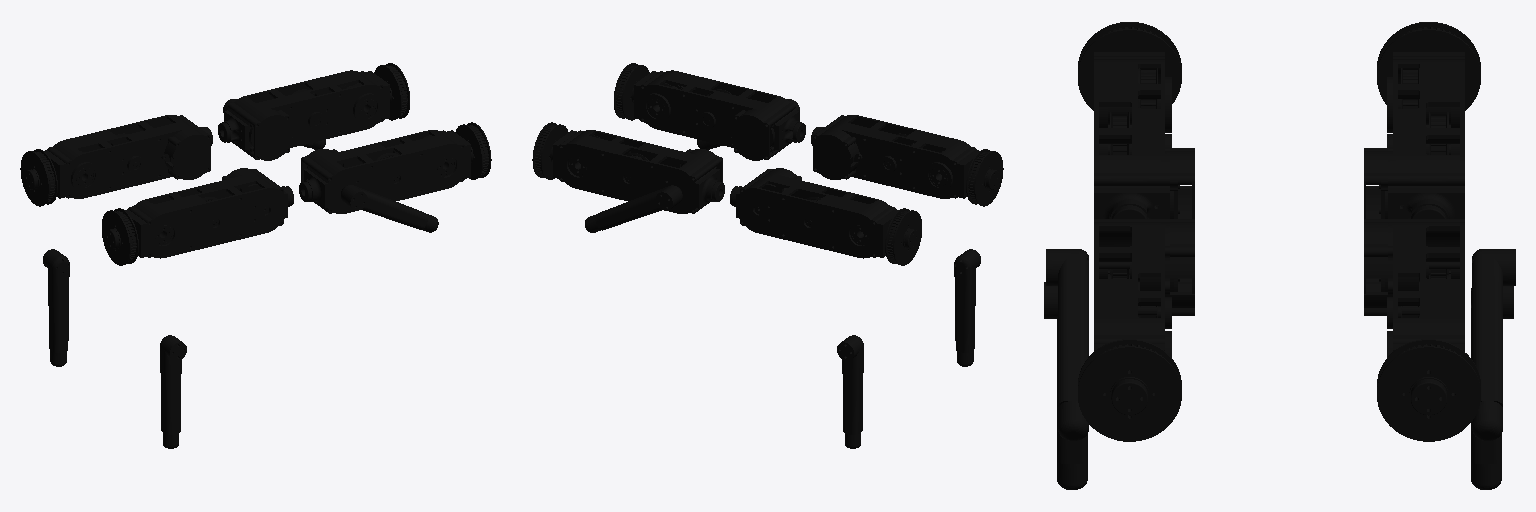
robot.urdf — mistletoe:
<?xml version="1.0" ?>
<!-- =================================================================================== -->
<!-- |    This document was autogenerated by xacro from mistletoe.xacro                | -->
<!-- |    EDITING THIS FILE BY HAND IS NOT RECOMMENDED                                 | -->
<!-- =================================================================================== -->
<robot name="mistletoe">
  <material name="silver_default">
    <color rgba="0.700 0.700 0.700 1.000"/>
  </material>
  <material name="plastic_glossy_black">
    <color rgba="0.09803921568627451 0.09803921568627451 0.09803921568627451 1.0"/>
  </material>
  <transmission name="KFE3_tran">
    <type>transmission_interface/SimpleTransmission</type>
    <joint name="KFE3">
      <hardwareInterface>hardware_interface/EffortJointInterface</hardwareInterface>
    </joint>
    <actuator name="KFE3_actr">
      <hardwareInterface>hardware_interface/EffortJointInterface</hardwareInterface>
      <mechanicalReduction>1</mechanicalReduction>
    </actuator>
  </transmission>
  <transmission name="HFE3_tran">
    <type>transmission_interface/SimpleTransmission</type>
    <joint name="HFE3">
      <hardwareInterface>hardware_interface/EffortJointInterface</hardwareInterface>
    </joint>
    <actuator name="HFE3_actr">
      <hardwareInterface>hardware_interface/EffortJointInterface</hardwareInterface>
      <mechanicalReduction>1</mechanicalReduction>
    </actuator>
  </transmission>
  <transmission name="HAA3_tran">
    <type>transmission_interface/SimpleTransmission</type>
    <joint name="HAA3">
      <hardwareInterface>hardware_interface/EffortJointInterface</hardwareInterface>
    </joint>
    <actuator name="HAA3_actr">
      <hardwareInterface>hardware_interface/EffortJointInterface</hardwareInterface>
      <mechanicalReduction>1</mechanicalReduction>
    </actuator>
  </transmission>
  <transmission name="HAA4_tran">
    <type>transmission_interface/SimpleTransmission</type>
    <joint name="HAA4">
      <hardwareInterface>hardware_interface/EffortJointInterface</hardwareInterface>
    </joint>
    <actuator name="HAA4_actr">
      <hardwareInterface>hardware_interface/EffortJointInterface</hardwareInterface>
      <mechanicalReduction>1</mechanicalReduction>
    </actuator>
  </transmission>
  <transmission name="HFE4_tran">
    <type>transmission_interface/SimpleTransmission</type>
    <joint name="HFE4">
      <hardwareInterface>hardware_interface/EffortJointInterface</hardwareInterface>
    </joint>
    <actuator name="HFE4_actr">
      <hardwareInterface>hardware_interface/EffortJointInterface</hardwareInterface>
      <mechanicalReduction>1</mechanicalReduction>
    </actuator>
  </transmission>
  <transmission name="KFE4_tran">
    <type>transmission_interface/SimpleTransmission</type>
    <joint name="KFE4">
      <hardwareInterface>hardware_interface/EffortJointInterface</hardwareInterface>
    </joint>
    <actuator name="KFE4_actr">
      <hardwareInterface>hardware_interface/EffortJointInterface</hardwareInterface>
      <mechanicalReduction>1</mechanicalReduction>
    </actuator>
  </transmission>
  <transmission name="HAA1_tran">
    <type>transmission_interface/SimpleTransmission</type>
    <joint name="HAA1">
      <hardwareInterface>hardware_interface/EffortJointInterface</hardwareInterface>
    </joint>
    <actuator name="HAA1_actr">
      <hardwareInterface>hardware_interface/EffortJointInterface</hardwareInterface>
      <mechanicalReduction>1</mechanicalReduction>
    </actuator>
  </transmission>
  <transmission name="HAA2_tran">
    <type>transmission_interface/SimpleTransmission</type>
    <joint name="HAA2">
      <hardwareInterface>hardware_interface/EffortJointInterface</hardwareInterface>
    </joint>
    <actuator name="HAA2_actr">
      <hardwareInterface>hardware_interface/EffortJointInterface</hardwareInterface>
      <mechanicalReduction>1</mechanicalReduction>
    </actuator>
  </transmission>
  <transmission name="HFE1_tran">
    <type>transmission_interface/SimpleTransmission</type>
    <joint name="HFE1">
      <hardwareInterface>hardware_interface/EffortJointInterface</hardwareInterface>
    </joint>
    <actuator name="HFE1_actr">
      <hardwareInterface>hardware_interface/EffortJointInterface</hardwareInterface>
      <mechanicalReduction>1</mechanicalReduction>
    </actuator>
  </transmission>
  <transmission name="HFE2_tran">
    <type>transmission_interface/SimpleTransmission</type>
    <joint name="HFE2">
      <hardwareInterface>hardware_interface/EffortJointInterface</hardwareInterface>
    </joint>
    <actuator name="HFE2_actr">
      <hardwareInterface>hardware_interface/EffortJointInterface</hardwareInterface>
      <mechanicalReduction>1</mechanicalReduction>
    </actuator>
  </transmission>
  <transmission name="Revolute 27_tran">
    <type>transmission_interface/SimpleTransmission</type>
    <joint name="Revolute 27">
      <hardwareInterface>hardware_interface/EffortJointInterface</hardwareInterface>
    </joint>
    <actuator name="Revolute 27_actr">
      <hardwareInterface>hardware_interface/EffortJointInterface</hardwareInterface>
      <mechanicalReduction>1</mechanicalReduction>
    </actuator>
  </transmission>
  <transmission name="Revolute 28_tran">
    <type>transmission_interface/SimpleTransmission</type>
    <joint name="Revolute 28">
      <hardwareInterface>hardware_interface/EffortJointInterface</hardwareInterface>
    </joint>
    <actuator name="Revolute 28_actr">
      <hardwareInterface>hardware_interface/EffortJointInterface</hardwareInterface>
      <mechanicalReduction>1</mechanicalReduction>
    </actuator>
  </transmission>
  <link name="base_link">
    <inertial>
      <origin rpy="0 0 0" xyz="-0.06657859086794649 0.1208022759873019 0.027661254547308046"/>
      <mass value="2.781822888066483"/>
      <inertia ixx="0.012347" ixy="-3e-06" ixz="-4.1e-05" iyy="0.169247" iyz="0.0" izz="0.177361"/>
    </inertial>
    <visual>
      <origin rpy="0 0 0" xyz="0 0 0"/>
      <geometry>
        <mesh filename="package://mistletoe_description/meshes/base_link.stl" scale="0.001 0.001 0.001"/>
      </geometry>
      <material name="plastic_glossy_black"/>
    </visual>
    <collision>
      <origin rpy="0 0 0" xyz="0 0 0"/>
      <geometry>
        <mesh filename="package://mistletoe_description/meshes/base_link.stl" scale="0.001 0.001 0.001"/>
      </geometry>
    </collision>
  </link>
  <link name="ANKLE_v4_1">
    <inertial>
      <origin rpy="0 0 0" xyz="-3.940693174275811e-07 0.02214768809098814 -0.06893004017418905"/>
      <mass value="0.0707595437253254"/>
      <inertia ixx="0.000194" ixy="0.0" ixz="-0.0" iyy="0.000193" iyz="5e-06" izz="8e-06"/>
    </inertial>
    <visual>
      <origin rpy="0 0 0" xyz="-0.17787 0.071 0.15087"/>
      <geometry>
        <mesh filename="package://mistletoe_description/meshes/ANKLE_v4_1.stl" scale="0.001 0.001 0.001"/>
      </geometry>
      <material name="plastic_glossy_black"/>
    </visual>
    <collision>
      <origin rpy="0 0 0" xyz="-0.17787 0.071 0.15087"/>
      <geometry>
        <mesh filename="package://mistletoe_description/meshes/ANKLE_v4_1.stl" scale="0.001 0.001 0.001"/>
      </geometry>
    </collision>
  </link>
  <link name="ACTUATOR_V2.1__KNEE__v10_1">
    <inertial>
      <origin rpy="0 0 0" xyz="6.506335524347762e-06 -0.06075650205456666 -0.05309550553247122"/>
      <mass value="0.6687419456686833"/>
      <inertia ixx="0.004059" ixy="-0.0" ixz="-0.0" iyy="0.003897" iyz="-0.000492" izz="0.000581"/>
    </inertial>
    <visual>
      <origin rpy="0 0 0" xyz="-0.17787 0.026 -0.025"/>
      <geometry>
        <mesh filename="package://mistletoe_description/meshes/ACTUATOR_V2.1__KNEE__v10_1.stl" scale="0.001 0.001 0.001"/>
      </geometry>
      <material name="plastic_glossy_black"/>
    </visual>
    <collision>
      <origin rpy="0 0 0" xyz="-0.17787 0.026 -0.025"/>
      <geometry>
        <mesh filename="package://mistletoe_description/meshes/ACTUATOR_V2.1__KNEE__v10_1.stl" scale="0.001 0.001 0.001"/>
      </geometry>
    </collision>
  </link>
  <link name="Hip_1">
    <inertial>
      <origin rpy="0 0 0" xyz="-0.1675167715088861 0.008238257074781406 -5.1741353111756094e-09"/>
      <mass value="0.5600707780907046"/>
      <inertia ixx="0.000428" ixy="0.000319" ixz="-0.0" iyy="0.004847" iyz="-0.0" izz="0.004917"/>
    </inertial>
    <visual>
      <origin rpy="0 0 0" xyz="-0.255776 0.001 -0.025"/>
      <geometry>
        <mesh filename="package://mistletoe_description/meshes/Hip_1.stl" scale="0.001 0.001 0.001"/>
      </geometry>
      <material name="plastic_glossy_black"/>
    </visual>
    <collision>
      <origin rpy="0 0 0" xyz="-0.255776 0.001 -0.025"/>
      <geometry>
        <mesh filename="package://mistletoe_description/meshes/Hip_1.stl" scale="0.001 0.001 0.001"/>
      </geometry>
    </collision>
  </link>
  <link name="Hip_2">
    <inertial>
      <origin rpy="0 0 0" xyz="-0.1675167715088861 -0.00823825707478365 5.174126540413715e-09"/>
      <mass value="0.5600707780907046"/>
      <inertia ixx="0.000428" ixy="-0.000319" ixz="0.0" iyy="0.004847" iyz="-0.0" izz="0.004917"/>
    </inertial>
    <visual>
      <origin rpy="0 0 0" xyz="-0.255776 -0.242608 -0.025"/>
      <geometry>
        <mesh filename="package://mistletoe_description/meshes/Hip_2.stl" scale="0.001 0.001 0.001"/>
      </geometry>
      <material name="plastic_glossy_black"/>
    </visual>
    <collision>
      <origin rpy="0 0 0" xyz="-0.255776 -0.242608 -0.025"/>
      <geometry>
        <mesh filename="package://mistletoe_description/meshes/Hip_2.stl" scale="0.001 0.001 0.001"/>
      </geometry>
    </collision>
  </link>
  <link name="ACTUATOR_V2.1__KNEE__v10_2">
    <inertial>
      <origin rpy="0 0 0" xyz="-7.306335524759344e-06 0.06075650205456229 -0.05309550553247524"/>
      <mass value="0.6687419456686833"/>
      <inertia ixx="0.004059" ixy="-0.0" ixz="0.0" iyy="0.003897" iyz="0.000492" izz="0.000581"/>
    </inertial>
    <visual>
      <origin rpy="0 0 0" xyz="-0.17787 -0.267608 -0.025"/>
      <geometry>
        <mesh filename="package://mistletoe_description/meshes/ACTUATOR_V2.1__KNEE__v10_2.stl" scale="0.001 0.001 0.001"/>
      </geometry>
      <material name="plastic_glossy_black"/>
    </visual>
    <collision>
      <origin rpy="0 0 0" xyz="-0.17787 -0.267608 -0.025"/>
      <geometry>
        <mesh filename="package://mistletoe_description/meshes/ACTUATOR_V2.1__KNEE__v10_2.stl" scale="0.001 0.001 0.001"/>
      </geometry>
    </collision>
  </link>
  <link name="ANKLE_v4_2">
    <inertial>
      <origin rpy="0 0 0" xyz="-4.0593068142968924e-07 -0.02214768809099732 -0.06893004017419127"/>
      <mass value="0.0707595437253254"/>
      <inertia ixx="0.000194" ixy="0.0" ixz="0.0" iyy="0.000193" iyz="-5e-06" izz="8e-06"/>
    </inertial>
    <visual>
      <origin rpy="0 0 0" xyz="-0.17787 -0.312608 0.15087"/>
      <geometry>
        <mesh filename="package://mistletoe_description/meshes/ANKLE_v4_2.stl" scale="0.001 0.001 0.001"/>
      </geometry>
      <material name="plastic_glossy_black"/>
    </visual>
    <collision>
      <origin rpy="0 0 0" xyz="-0.17787 -0.312608 0.15087"/>
      <geometry>
        <mesh filename="package://mistletoe_description/meshes/ANKLE_v4_2.stl" scale="0.001 0.001 0.001"/>
      </geometry>
    </collision>
  </link>
  <link name="Hip_3">
    <inertial>
      <origin rpy="0 0 0" xyz="0.16751677150888714 0.008238257074780413 5.174135425667359e-09"/>
      <mass value="0.5600707780907046"/>
      <inertia ixx="0.000428" ixy="-0.000319" ixz="-0.0" iyy="0.004847" iyz="0.0" izz="0.004917"/>
    </inertial>
    <visual>
      <origin rpy="0 0 0" xyz="0.389589 0.001 -0.025"/>
      <geometry>
        <mesh filename="package://mistletoe_description/meshes/Hip_3.stl" scale="0.001 0.001 0.001"/>
      </geometry>
      <material name="plastic_glossy_black"/>
    </visual>
    <collision>
      <origin rpy="0 0 0" xyz="0.389589 0.001 -0.025"/>
      <geometry>
        <mesh filename="package://mistletoe_description/meshes/Hip_3.stl" scale="0.001 0.001 0.001"/>
      </geometry>
    </collision>
  </link>
  <link name="Hip_4">
    <inertial>
      <origin rpy="0 0 0" xyz="0.16751677150888733 -0.008238257074784622 -5.174131970098195e-09"/>
      <mass value="0.5600707780907046"/>
      <inertia ixx="0.000428" ixy="0.000319" ixz="0.0" iyy="0.004847" iyz="0.0" izz="0.004917"/>
    </inertial>
    <visual>
      <origin rpy="0 0 0" xyz="0.389589 -0.242608 -0.025"/>
      <geometry>
        <mesh filename="package://mistletoe_description/meshes/Hip_4.stl" scale="0.001 0.001 0.001"/>
      </geometry>
      <material name="plastic_glossy_black"/>
    </visual>
    <collision>
      <origin rpy="0 0 0" xyz="0.389589 -0.242608 -0.025"/>
      <geometry>
        <mesh filename="package://mistletoe_description/meshes/Hip_4.stl" scale="0.001 0.001 0.001"/>
      </geometry>
    </collision>
  </link>
  <link name="ACTUATOR_V2.1__KNEE__v10_3">
    <inertial>
      <origin rpy="0 0 0" xyz="7.306335524315255e-06 -0.060756502054566924 -0.053095505532472546"/>
      <mass value="0.6687419456686833"/>
      <inertia ixx="0.004059" ixy="-0.0" ixz="-0.0" iyy="0.003897" iyz="-0.000492" izz="0.000581"/>
    </inertial>
    <visual>
      <origin rpy="0 0 0" xyz="0.311683 0.026 -0.025"/>
      <geometry>
        <mesh filename="package://mistletoe_description/meshes/ACTUATOR_V2.1__KNEE__v10_3.stl" scale="0.001 0.001 0.001"/>
      </geometry>
      <material name="plastic_glossy_black"/>
    </visual>
    <collision>
      <origin rpy="0 0 0" xyz="0.311683 0.026 -0.025"/>
      <geometry>
        <mesh filename="package://mistletoe_description/meshes/ACTUATOR_V2.1__KNEE__v10_3.stl" scale="0.001 0.001 0.001"/>
      </geometry>
    </collision>
  </link>
  <link name="ACTUATOR_V2.1__KNEE__v10_4">
    <inertial>
      <origin rpy="0 0 0" xyz="-6.506335524625317e-06 0.06075650205456207 -0.05309550553247644"/>
      <mass value="0.6687419456686833"/>
      <inertia ixx="0.004059" ixy="-0.0" ixz="0.0" iyy="0.003897" iyz="0.000492" izz="0.000581"/>
    </inertial>
    <visual>
      <origin rpy="0 0 0" xyz="0.311683 -0.267608 -0.025"/>
      <geometry>
        <mesh filename="package://mistletoe_description/meshes/ACTUATOR_V2.1__KNEE__v10_4.stl" scale="0.001 0.001 0.001"/>
      </geometry>
      <material name="plastic_glossy_black"/>
    </visual>
    <collision>
      <origin rpy="0 0 0" xyz="0.311683 -0.267608 -0.025"/>
      <geometry>
        <mesh filename="package://mistletoe_description/meshes/ACTUATOR_V2.1__KNEE__v10_4.stl" scale="0.001 0.001 0.001"/>
      </geometry>
    </collision>
  </link>
  <link name="ANKLE_v4_3">
    <inertial>
      <origin rpy="0 0 0" xyz="4.0593068234562324e-07 0.022147688090987667 -0.06893004017418988"/>
      <mass value="0.0707595437253254"/>
      <inertia ixx="0.000194" ixy="0.0" ixz="-0.0" iyy="0.000193" iyz="5e-06" izz="8e-06"/>
    </inertial>
    <visual>
      <origin rpy="0 0 0" xyz="0.311683 0.071 0.15087"/>
      <geometry>
        <mesh filename="package://mistletoe_description/meshes/ANKLE_v4_3.stl" scale="0.001 0.001 0.001"/>
      </geometry>
      <material name="plastic_glossy_black"/>
    </visual>
    <collision>
      <origin rpy="0 0 0" xyz="0.311683 0.071 0.15087"/>
      <geometry>
        <mesh filename="package://mistletoe_description/meshes/ANKLE_v4_3.stl" scale="0.001 0.001 0.001"/>
      </geometry>
    </collision>
  </link>
  <link name="ANKLE_v4_4">
    <inertial>
      <origin rpy="0 0 0" xyz="3.9406931612306906e-07 -0.022147688090997875 -0.0689300401741931"/>
      <mass value="0.0707595437253254"/>
      <inertia ixx="0.000194" ixy="0.0" ixz="0.0" iyy="0.000193" iyz="-5e-06" izz="8e-06"/>
    </inertial>
    <visual>
      <origin rpy="0 0 0" xyz="0.311683 -0.312608 0.15087"/>
      <geometry>
        <mesh filename="package://mistletoe_description/meshes/ANKLE_v4_4.stl" scale="0.001 0.001 0.001"/>
      </geometry>
      <material name="plastic_glossy_black"/>
    </visual>
    <collision>
      <origin rpy="0 0 0" xyz="0.311683 -0.312608 0.15087"/>
      <geometry>
        <mesh filename="package://mistletoe_description/meshes/ANKLE_v4_4.stl" scale="0.001 0.001 0.001"/>
      </geometry>
    </collision>
  </link>
  <joint name="KFE3" type="continuous">
    <origin rpy="0 0 0" xyz="0.0 -0.045 -0.17587"/>
    <parent link="ACTUATOR_V2.1__KNEE__v10_1"/>
    <child link="ANKLE_v4_1"/>
    <axis xyz="-0.0 -1.0 0.0"/>
  </joint>
  <joint name="HFE3" type="continuous">
    <origin rpy="0 0 0" xyz="-0.077906 -0.025 0.0"/>
    <parent link="Hip_1"/>
    <child link="ACTUATOR_V2.1__KNEE__v10_1"/>
    <axis xyz="0.0 1.0 -0.0"/>
  </joint>
  <joint name="HAA3" type="continuous">
    <origin rpy="0 0 0" xyz="0.255776 -0.001 0.025"/>
    <parent link="base_link"/>
    <child link="Hip_1"/>
    <axis xyz="-1.0 0.0 0.0"/>
  </joint>
  <joint name="HAA4" type="continuous">
    <origin rpy="0 0 0" xyz="0.255776 0.242608 0.025"/>
    <parent link="base_link"/>
    <child link="Hip_2"/>
    <axis xyz="1.0 0.0 -0.0"/>
  </joint>
  <joint name="HFE4" type="continuous">
    <origin rpy="0 0 0" xyz="-0.077906 0.025 0.0"/>
    <parent link="Hip_2"/>
    <child link="ACTUATOR_V2.1__KNEE__v10_2"/>
    <axis xyz="0.0 -1.0 0.0"/>
  </joint>
  <joint name="KFE4" type="continuous">
    <origin rpy="0 0 0" xyz="0.0 0.045 -0.17587"/>
    <parent link="ACTUATOR_V2.1__KNEE__v10_2"/>
    <child link="ANKLE_v4_2"/>
    <axis xyz="-0.0 1.0 -0.0"/>
  </joint>
  <joint name="HAA1" type="continuous">
    <origin rpy="0 0 0" xyz="-0.389589 -0.001 0.025"/>
    <parent link="base_link"/>
    <child link="Hip_3"/>
    <axis xyz="1.0 0.0 -0.0"/>
  </joint>
  <joint name="HAA2" type="continuous">
    <origin rpy="0 0 0" xyz="-0.389589 0.242608 0.025"/>
    <parent link="base_link"/>
    <child link="Hip_4"/>
    <axis xyz="1.0 0.0 -0.0"/>
  </joint>
  <joint name="HFE1" type="continuous">
    <origin rpy="0 0 0" xyz="0.077906 -0.025 0.0"/>
    <parent link="Hip_3"/>
    <child link="ACTUATOR_V2.1__KNEE__v10_3"/>
    <axis xyz="-0.0 1.0 -0.0"/>
  </joint>
  <joint name="HFE2" type="continuous">
    <origin rpy="0 0 0" xyz="0.077906 0.025 0.0"/>
    <parent link="Hip_4"/>
    <child link="ACTUATOR_V2.1__KNEE__v10_4"/>
    <axis xyz="-0.0 -1.0 0.0"/>
  </joint>
  <joint name="Revolute 27" type="continuous">
    <origin rpy="0 0 0" xyz="0.0 -0.045 -0.17587"/>
    <parent link="ACTUATOR_V2.1__KNEE__v10_3"/>
    <child link="ANKLE_v4_3"/>
    <axis xyz="0.0 -1.0 0.0"/>
  </joint>
  <joint name="Revolute 28" type="continuous">
    <origin rpy="0 0 0" xyz="0.0 0.045 -0.17587"/>
    <parent link="ACTUATOR_V2.1__KNEE__v10_4"/>
    <child link="ANKLE_v4_4"/>
    <axis xyz="0.0 1.0 -0.0"/>
  </joint>
</robot>

--- Render facts (derived) ---
Views: 3 orthographic renders of the robot side by side, from view 1: azimuth 30°, elevation 25°; view 2: azimuth 150°, elevation 25°; view 3: azimuth 270°, elevation 25°.
Robot: mistletoe — 13 links, 12 joints (12 continuous); root link base_link; default pose: all joints at 0.
Visible links, largest first — view 1: Hip_4, Hip_3, Hip_2, Hip_1, ANKLE_v4_4, ANKLE_v4_3, ANKLE_v4_1; view 2: Hip_3, Hip_4, Hip_1, Hip_2, ANKLE_v4_3, ANKLE_v4_4, ANKLE_v4_2; view 3: Hip_1, Hip_2, Hip_4, Hip_3, ANKLE_v4_2, ANKLE_v4_1, ANKLE_v4_3, ANKLE_v4_4.
Link boxes in pixels (<box>): Hip_4: <box>20,115,212,206</box>; Hip_3: <box>102,168,293,265</box>; Hip_2: <box>218,63,409,160</box>; Hip_1: <box>299,122,491,213</box>; ANKLE_v4_4: <box>43,249,69,366</box>; ANKLE_v4_3: <box>160,335,186,448</box>; ANKLE_v4_1: <box>341,185,438,232</box>; Hip_3: <box>811,115,1003,206</box>; Hip_4: <box>730,168,921,265</box>; Hip_1: <box>614,63,805,160</box>; Hip_2: <box>532,122,724,213</box>; ANKLE_v4_3: <box>954,249,980,366</box>; ANKLE_v4_4: <box>837,335,863,448</box>; ANKLE_v4_2: <box>585,185,682,232</box>; Hip_1: <box>1078,219,1194,441</box>; Hip_2: <box>1364,219,1480,441</box>; Hip_4: <box>1364,22,1480,218</box>; Hip_3: <box>1078,22,1194,218</box>; ANKLE_v4_2: <box>1472,249,1515,440</box>; ANKLE_v4_1: <box>1046,249,1088,440</box>; ANKLE_v4_3: <box>1044,282,1087,489</box>; ANKLE_v4_4: <box>1471,286,1513,489</box>.
Bounding box of the posed robot: 0.6454 × 0.3836 × 0.3857 m (x, y, z).
Meshes: 13 distinct files referenced, 8 mesh visuals loaded (8 binary STL); not drawn: 5 (reference not matched to a file when rendering).